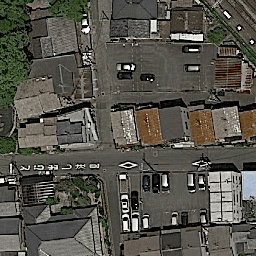car: (79, 9, 91, 35), (119, 192, 131, 214), (130, 212, 141, 233), (115, 62, 138, 72), (121, 213, 132, 233), (186, 172, 196, 193), (151, 172, 160, 194), (182, 63, 201, 73), (160, 172, 170, 191), (181, 44, 202, 53), (130, 189, 139, 210), (141, 174, 151, 192), (197, 173, 206, 192), (139, 72, 156, 82), (141, 212, 150, 230), (198, 207, 207, 225), (170, 210, 179, 226), (180, 210, 188, 227), (116, 72, 134, 79)
